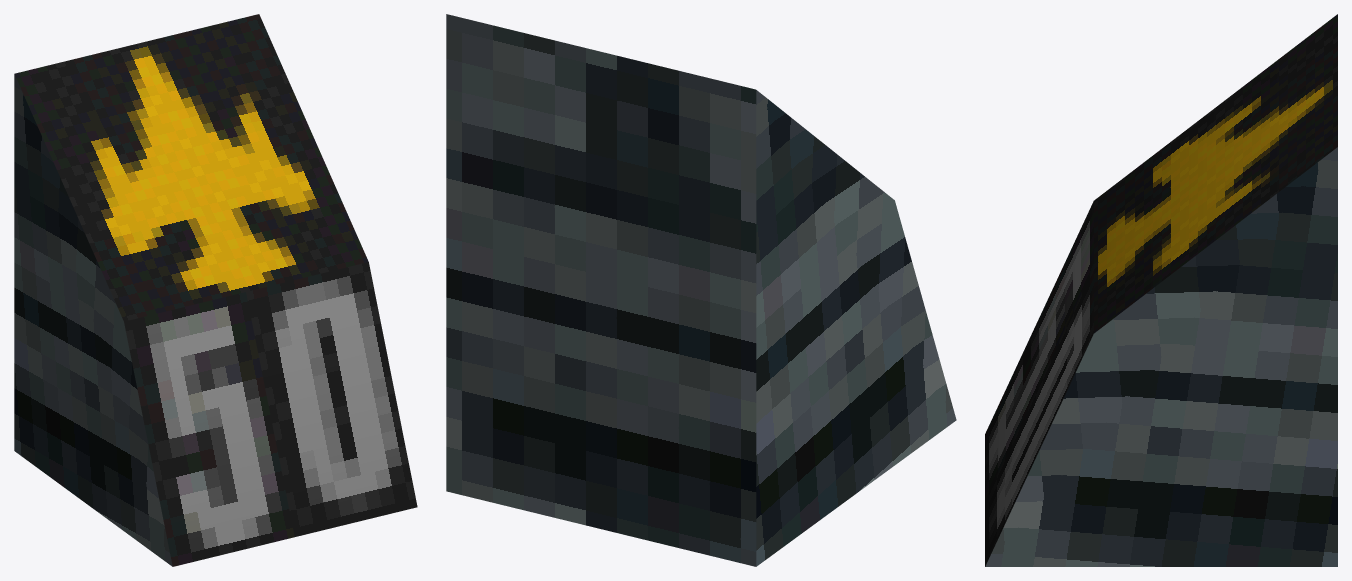
The picture shows the model from 3 angles, left to right: view 1: azimuth 30°, elevation 25°; view 2: azimuth 150°, elevation 25°; view 3: azimuth 270°, elevation 25°; orthographic projection. The views are drawn at different scales.
Parts seen in each view (by area): view 1: Mp_obj_035; view 2: Mp_obj_035; view 3: Mp_obj_035.
Part boxes in pixels (x1,y1,x2,y2): Mp_obj_035: (14, 14, 417, 566); Mp_obj_035: (446, 14, 956, 566); Mp_obj_035: (985, 14, 1337, 566).
Bounding box in the file's own units: 0.5996 × 0.8828 × 0.6719.
Materials: 1 (1 with a texture image).
